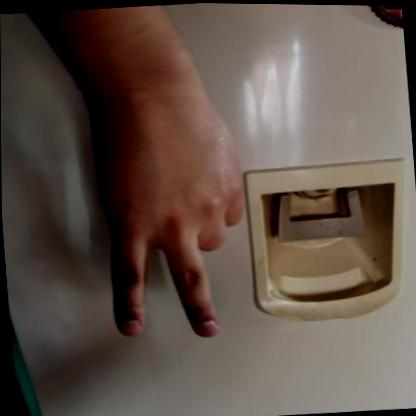N: (74, 79, 256, 344)
